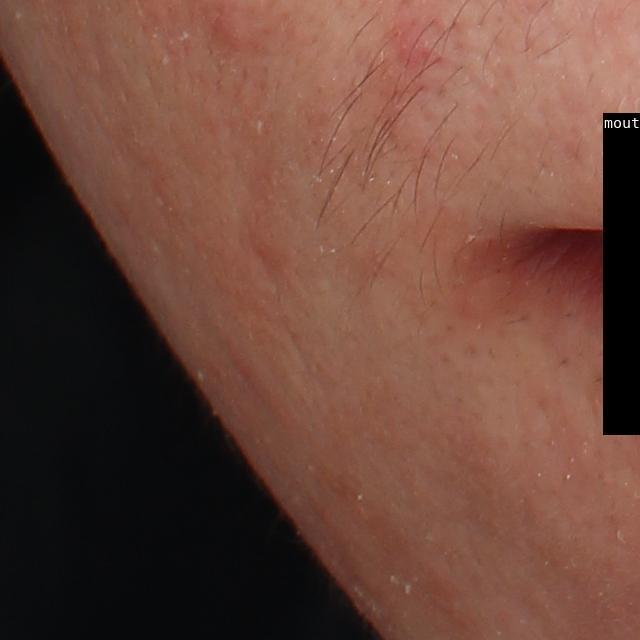papule: (205, 13, 264, 63), (390, 22, 433, 72)
